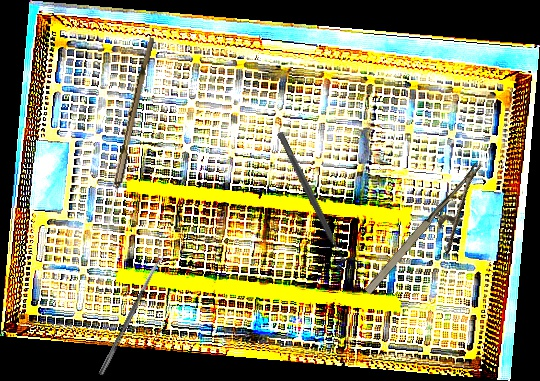Fixation Ring: (269, 127, 359, 272)
Needle Holder: (360, 161, 508, 315)
Surgical Spoon: (101, 36, 155, 240), (98, 253, 165, 377)
